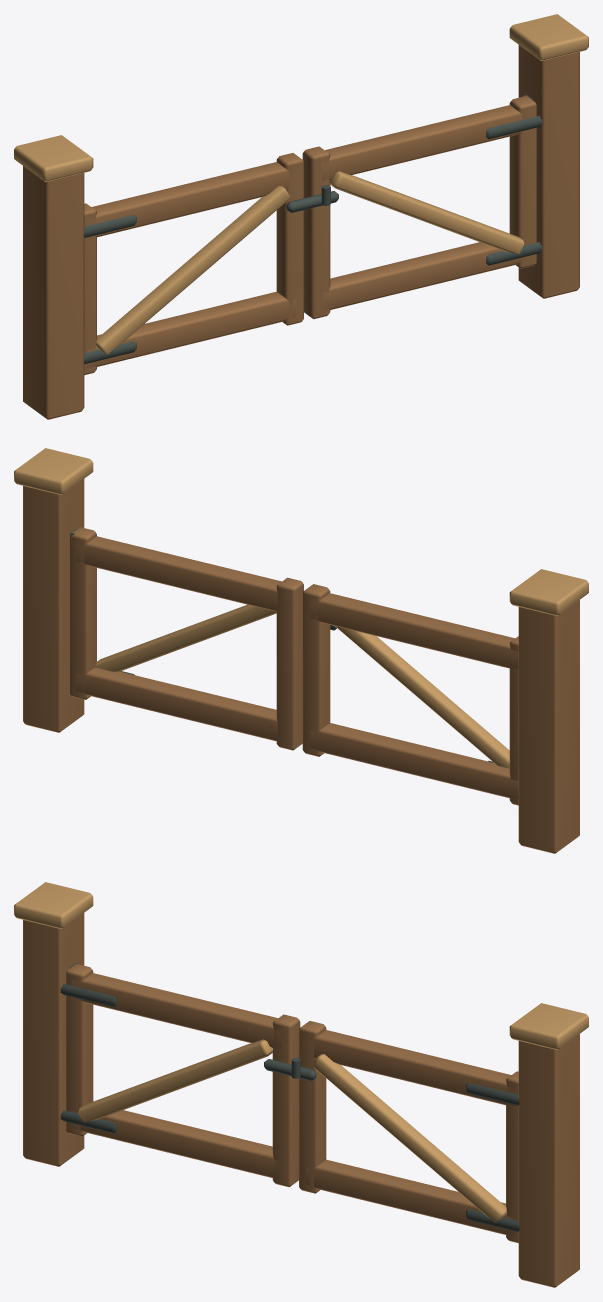
Rendered from farm_art_gate_rustic.glb.
3 renders of one model, top to bottom at view 1: azimuth 30°, elevation 25°; view 2: azimuth 150°, elevation 25°; view 3: azimuth 330°, elevation 25°, orthographic.
Parts seen in each view (by area): view 1: Gateway post, Gateway post.001, Gate horizontal rail.003, Gate horizontal rail.001, Gate horizontal rail.002, Gate horizontal rail, Gate diagonal brace, Gate upright.002, Gate diagonal brace.001, Gate upright, Gate upright.003, Gateway cap (+6 smaller); view 2: Gateway post, Gateway post.001, Gate horizontal rail.001, Gate horizontal rail, Gate horizontal rail.003, Gate horizontal rail.002, Gate upright.002, Gate diagonal brace, Gate upright, Gate upright.003, Gate diagonal brace.001, Gateway cap (+2 smaller); view 3: Gateway post.001, Gateway post, Gate horizontal rail.001, Gate horizontal rail.003, Gate horizontal rail, Gate horizontal rail.002, Gate diagonal brace.001, Gate upright, Gate diagonal brace, Gate upright.002, Gate upright.001, Gateway cap.001 (+7 smaller).
Boxes of the visible parts, left/top/right/bottom form: Gateway post: left=23, top=166, right=84, bottom=419; Gateway post.001: left=518, top=45, right=579, bottom=298; Gate horizontal rail.003: left=321, top=105, right=522, bottom=180; Gate horizontal rail.001: left=87, top=162, right=288, bottom=238; Gate horizontal rail.002: left=322, top=242, right=522, bottom=309; Gate horizontal rail: left=87, top=291, right=296, bottom=367; Gate diagonal brace: left=96, top=186, right=289, bottom=354; Gate upright.002: left=302, top=146, right=330, bottom=319; Gate diagonal brace.001: left=330, top=171, right=524, bottom=254; Gate upright: left=276, top=153, right=303, bottom=325; Gate upright.003: left=509, top=96, right=536, bottom=268; Gateway cap: left=14, top=135, right=93, bottom=182; Gateway post: left=518, top=600, right=579, bottom=853; Gateway post.001: left=23, top=479, right=84, bottom=732; Gate horizontal rail.001: left=310, top=593, right=518, bottom=669; Gate horizontal rail: left=310, top=723, right=518, bottom=798; Gate horizontal rail.003: left=75, top=536, right=281, bottom=611; Gate horizontal rail.002: left=75, top=667, right=277, bottom=741; Gate upright.002: left=276, top=577, right=303, bottom=750; Gate diagonal brace: left=335, top=626, right=509, bottom=768; Gate upright: left=302, top=584, right=330, bottom=756; Gate upright.003: left=70, top=527, right=96, bottom=699; Gate diagonal brace.001: left=95, top=604, right=276, bottom=671; Gateway cap: left=509, top=569, right=588, bottom=616; Gateway post.001: left=518, top=1034, right=579, bottom=1287; Gateway post: left=23, top=913, right=84, bottom=1166; Gate horizontal rail.001: left=71, top=973, right=281, bottom=1048; Gate horizontal rail.003: left=314, top=1030, right=515, bottom=1106; Gate horizontal rail: left=71, top=1110, right=279, bottom=1177; Gate horizontal rail.002: left=306, top=1159, right=515, bottom=1235; Gate diagonal brace.001: left=313, top=1054, right=506, bottom=1222; Gate upright: left=272, top=1014, right=300, bottom=1187; Gate diagonal brace: left=78, top=1039, right=272, bottom=1122; Gate upright.002: left=299, top=1021, right=326, bottom=1193; Gate upright.001: left=66, top=964, right=93, bottom=1136; Gateway cap.001: left=509, top=1003, right=588, bottom=1050.
Size of the model in its own units: 3.35 by 1.51 by 0.354.
